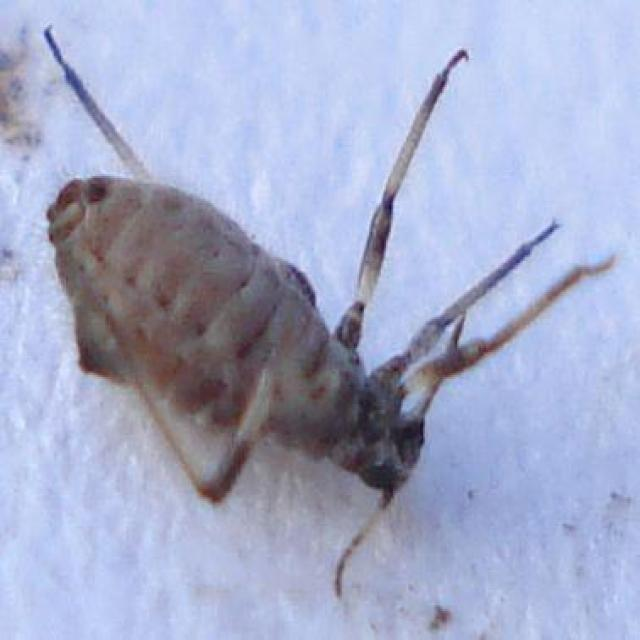Aphids: (38, 64, 582, 559)
